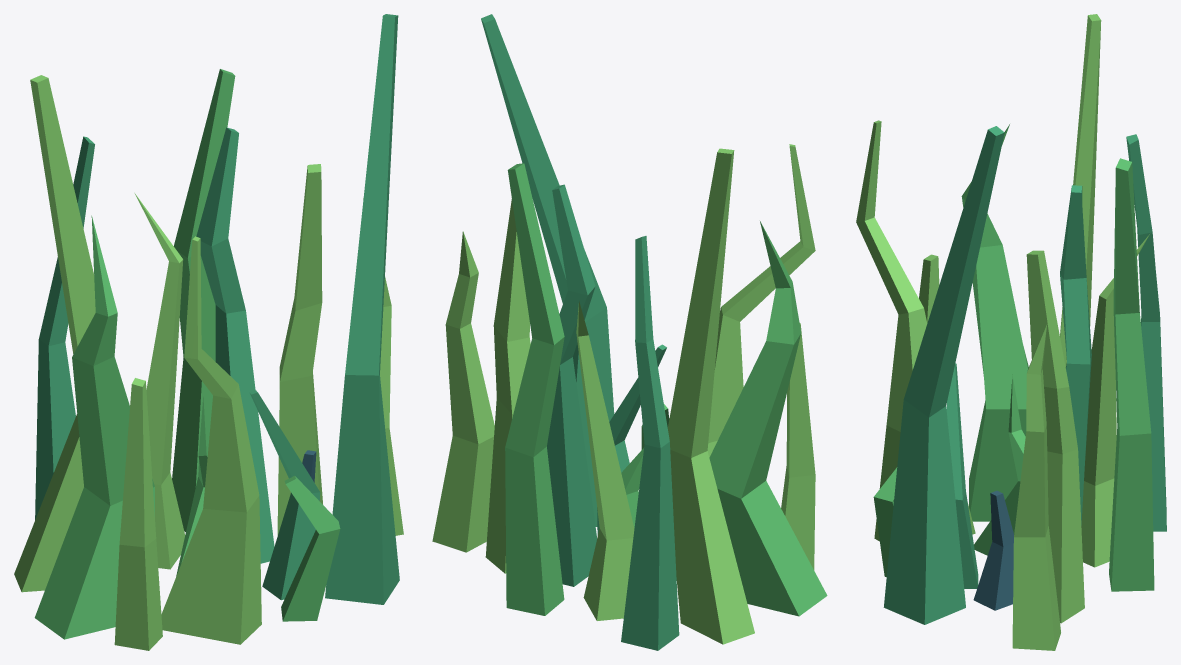
The model's file is Grass_7.fbx.
3 views of the same model, side by side, from view 1: azimuth 30°, elevation 25°; view 2: azimuth 150°, elevation 25°; view 3: azimuth 270°, elevation 25° (orthographic). The views are drawn at different scales.
Visible parts, largest first — view 1: Grass_7; view 2: Grass_7; view 3: Grass_7.
Part boxes in pixels (x1,y1,x2,y2): Grass_7: (14,14,403,650); Grass_7: (432,14,827,650); Grass_7: (856,14,1166,650).
Size of the model in its own units: 50.84 by 70.27 by 38.9.
